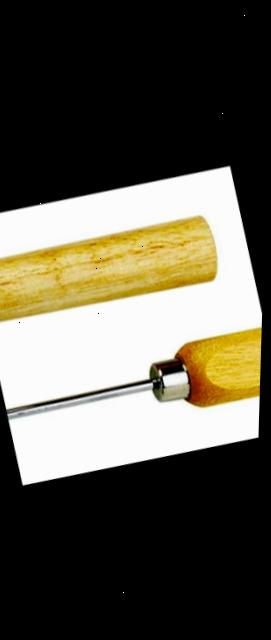ice pick: (0, 312, 264, 456)
